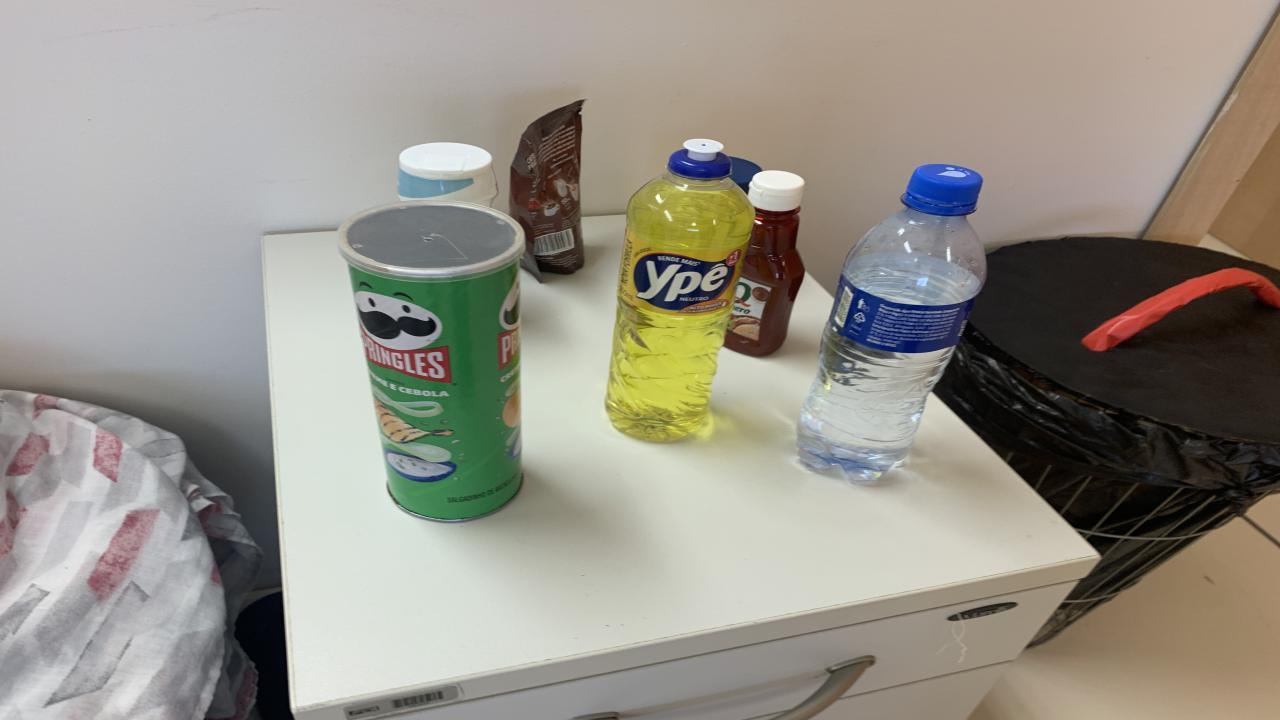Cleaner-Cleanup_Items: (398, 142, 498, 206)
Coffee-Pantry_Items: (510, 99, 585, 274)
Detergent-Cleanup_Items: (605, 139, 755, 441)
Ketchup-Pantry_Items: (725, 171, 805, 356)
Mayonnaise-Pantry_Items: (730, 158, 762, 193)
Pringles-Snacks: (338, 201, 525, 521)
Water_Bottle-Drinks: (798, 165, 988, 484)
